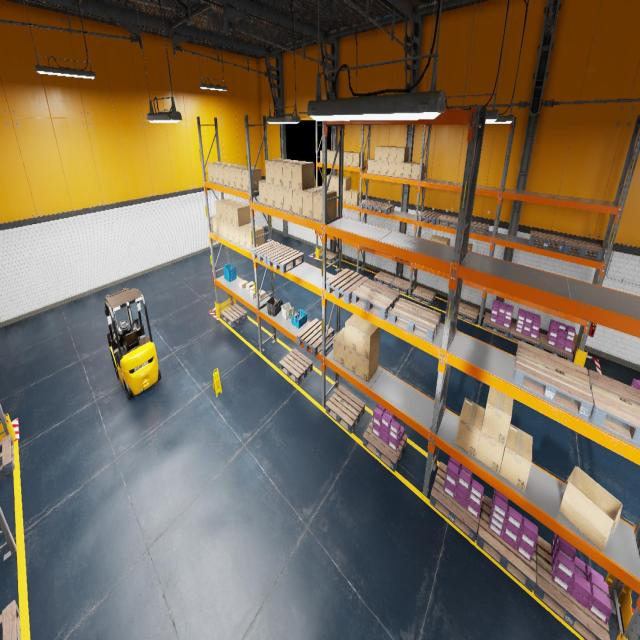box: (559, 466, 622, 552), (500, 424, 532, 491), (482, 386, 514, 446), (455, 398, 485, 458), (476, 421, 505, 473), (356, 320, 380, 360), (356, 347, 378, 382), (313, 190, 337, 221), (345, 314, 365, 351), (292, 161, 314, 190), (302, 187, 322, 218), (282, 160, 304, 188), (273, 159, 295, 186), (265, 158, 285, 184), (333, 326, 345, 366), (245, 225, 264, 250), (242, 168, 262, 191), (238, 223, 256, 248), (231, 204, 251, 226), (235, 167, 253, 190), (229, 165, 246, 188), (225, 201, 242, 224), (212, 162, 230, 183), (223, 164, 240, 186), (217, 163, 234, 185), (220, 200, 237, 222), (344, 345, 356, 374), (216, 198, 232, 219), (207, 162, 222, 182), (292, 189, 302, 215), (283, 187, 293, 212), (274, 185, 284, 210), (411, 162, 424, 180), (266, 183, 275, 207), (258, 180, 267, 204), (388, 146, 401, 162), (396, 147, 409, 162), (403, 162, 415, 178), (351, 190, 362, 206), (374, 146, 386, 160), (345, 190, 356, 204), (353, 152, 364, 166), (382, 146, 392, 161), (233, 224, 240, 244), (227, 222, 234, 242), (346, 152, 356, 166), (334, 177, 344, 190), (335, 151, 345, 164), (395, 162, 403, 178), (329, 176, 339, 188), (330, 150, 339, 163), (222, 220, 228, 239), (217, 218, 223, 237), (212, 214, 218, 233), (326, 174, 334, 188), (388, 162, 396, 176), (438, 236, 450, 245), (320, 150, 329, 162), (342, 177, 350, 190), (343, 151, 350, 165), (381, 162, 388, 176), (374, 160, 381, 174), (368, 158, 374, 174), (430, 234, 441, 242), (250, 289, 259, 298), (462, 243, 472, 251), (327, 150, 333, 163), (239, 280, 247, 288), (246, 282, 254, 290), (259, 290, 266, 299), (335, 190, 338, 202), (250, 284, 254, 292), (343, 190, 345, 202)
forklift: (104, 288, 161, 400)
pallets: (534, 535, 610, 640), (513, 340, 593, 420), (476, 495, 536, 592), (430, 462, 482, 542), (588, 370, 640, 446), (363, 418, 407, 471), (390, 298, 441, 342), (352, 279, 400, 320), (326, 385, 364, 433), (326, 268, 368, 304), (296, 318, 334, 356), (280, 348, 312, 384), (539, 333, 573, 362), (267, 247, 304, 273), (563, 237, 604, 260), (0, 600, 21, 640), (252, 241, 286, 264), (509, 322, 539, 348), (482, 312, 511, 338), (529, 231, 564, 251), (221, 304, 247, 327), (0, 434, 14, 475), (453, 302, 479, 324), (412, 286, 436, 305), (390, 276, 412, 294), (464, 220, 489, 235), (374, 271, 395, 287), (418, 210, 442, 224), (436, 214, 458, 229), (373, 202, 394, 214), (360, 200, 380, 211), (320, 251, 337, 263), (359, 245, 375, 250), (393, 257, 409, 262), (376, 251, 392, 255)
